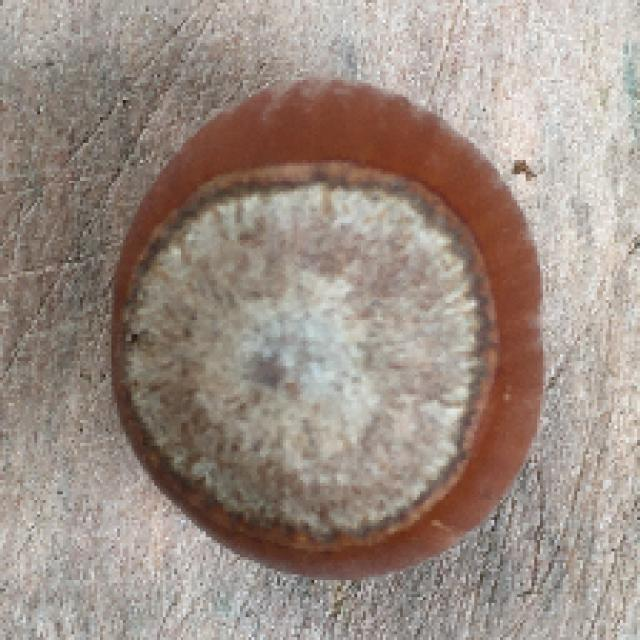qualityHazelnut: (95, 77, 552, 582)
